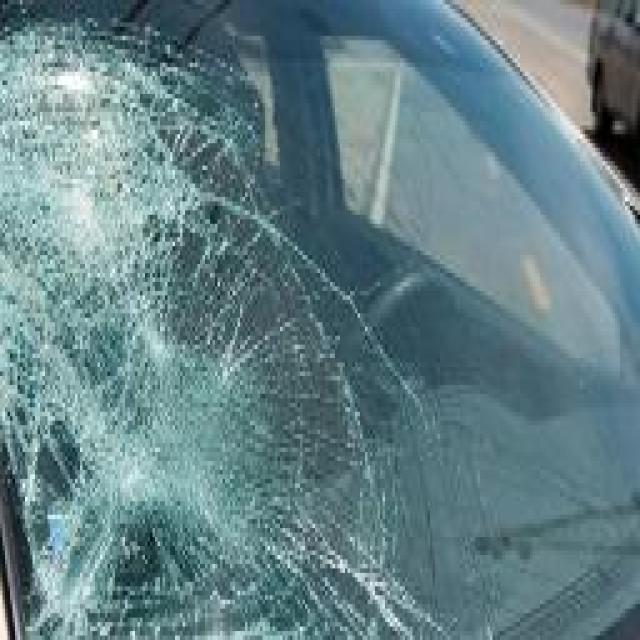Windshield: (2, 0, 548, 640)
